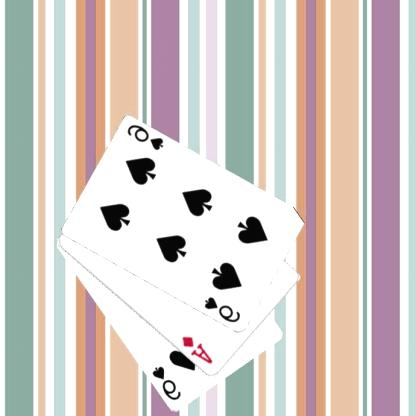6S: (126, 122, 167, 152), (152, 364, 184, 402), (204, 294, 244, 324)
AD: (181, 334, 216, 365)
